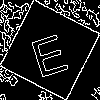E: (25, 25, 71, 78)
